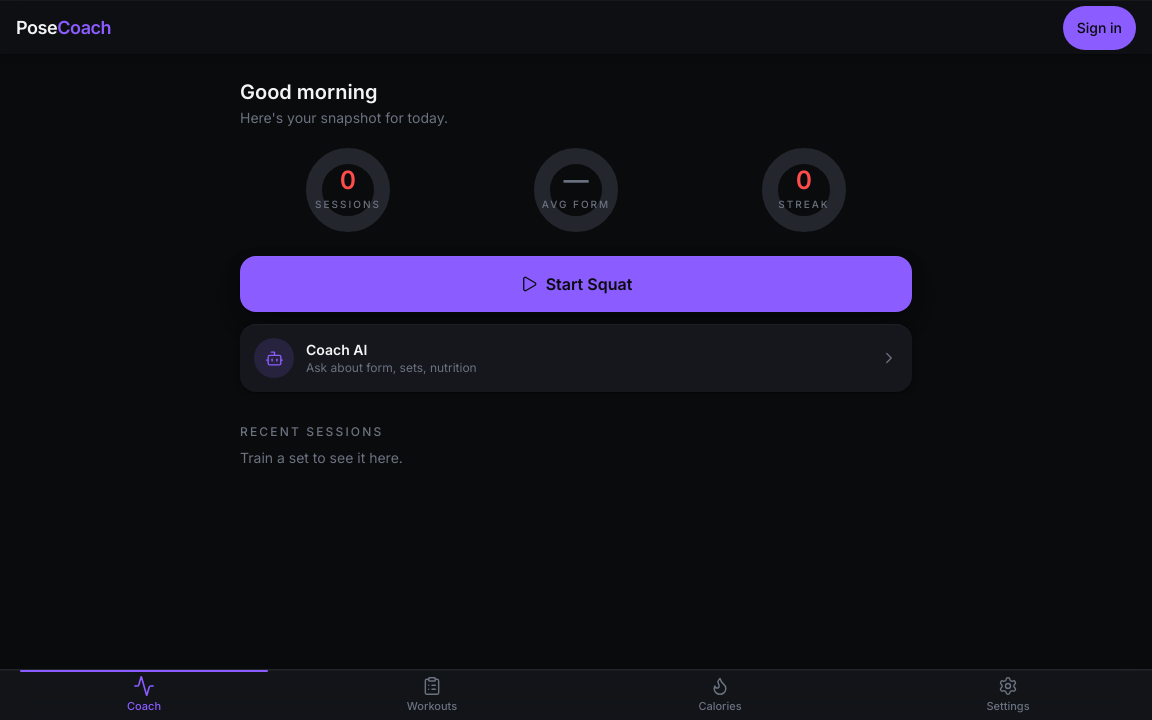
Test case: Coach AI entry points (P35) › opens chat from Home in one tap without starting a camera session
Check: the element with test id "home-view" is shown, box [240,80,912,466]
Step 1. Click the button with test id "coach-ai-btn" → (274,358), box [240,324,912,392]
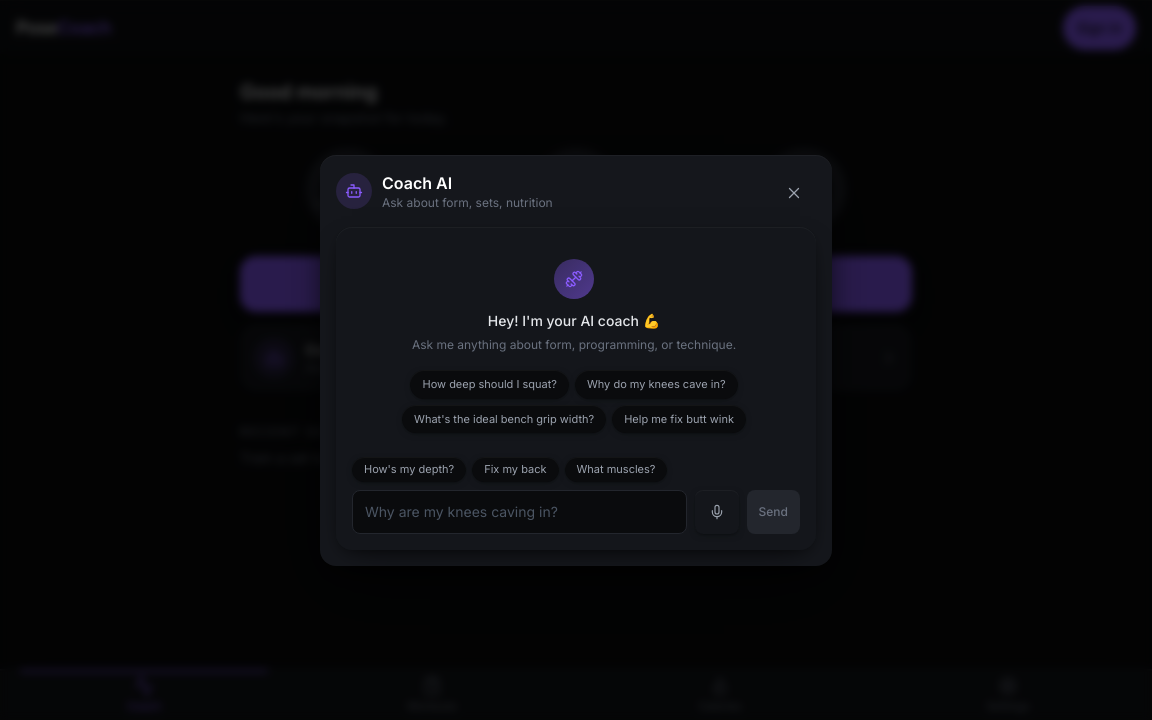
Check: the dialog with test id "coach-ai-sheet" is shown
Check: the field with test id "chat-input" is shown, box [352,490,687,534]
Step 2. Click the button with test id "coach-ai-close" → (794,192), box [772,170,816,214]
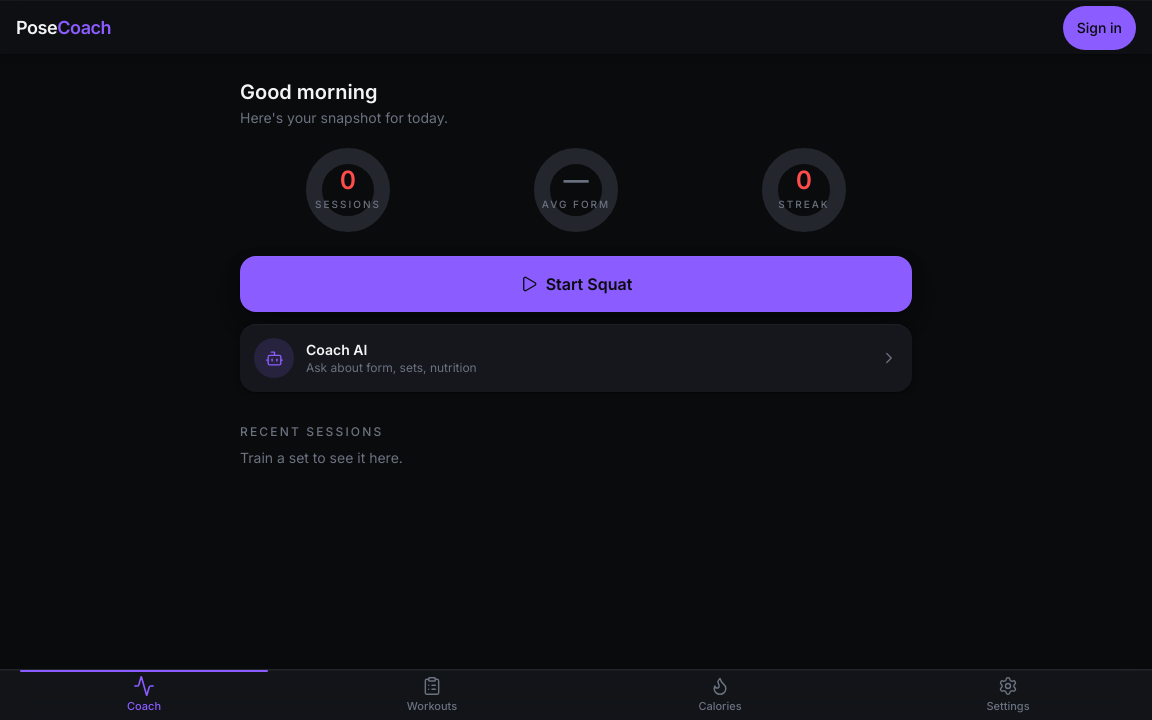
Check: the dialog with test id "coach-ai-sheet" is gone
